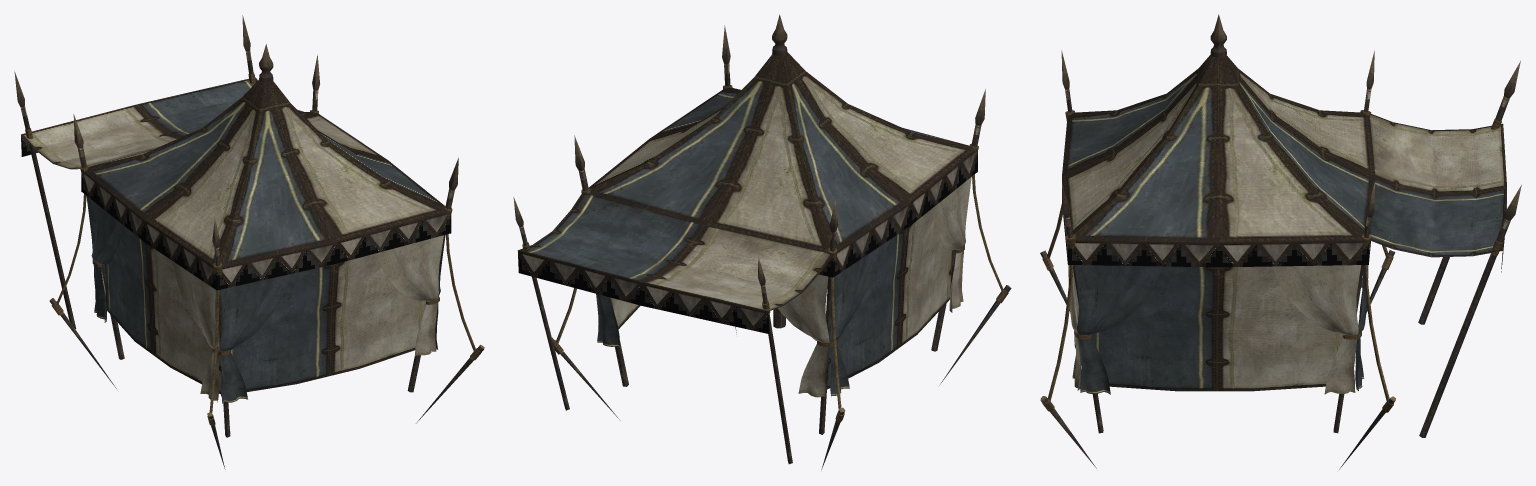
Rendered from eso_gu4_Tent2-transformed.glb.
3 views of the same model, side by side, from view 1: azimuth 30°, elevation 25°; view 2: azimuth 150°, elevation 25°; view 3: azimuth 270°, elevation 25° (orthographic). The views are drawn at different scales.
Parts seen in each view (by area): view 1: default; view 2: default; view 3: default.
Boxes of the visible parts, x1=… form: default: x1=14, y1=15, x2=484, y2=469; default: x1=513, y1=14, x2=1011, y2=469; default: x1=1040, y1=14, x2=1521, y2=469.
Size of the model in its own units: 7.75 by 9.75 by 10.47.
Materials: 1 (1 with a texture image).
